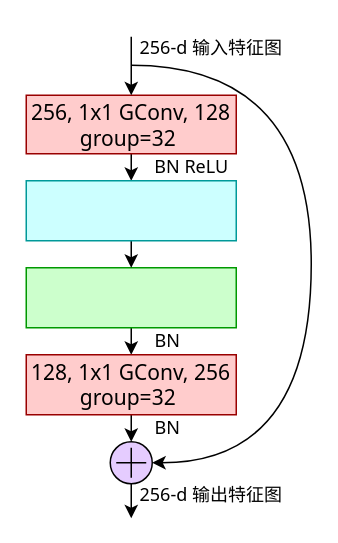
The diagram is 338 pixels wide and 543 high, and some of its shapes have lost their labels. The centre of each missing label's shape, as x and y in pixels:
128, 3x3 GConv, 128 group=32: the point at 130,297
Channel Shuffle: the point at 130,210
